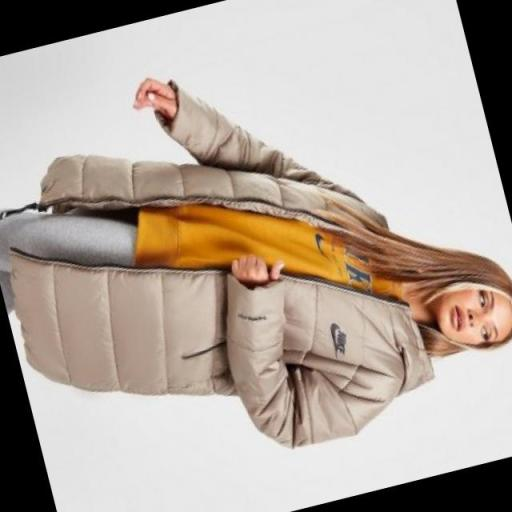Nike: (334, 327, 350, 354), (328, 320, 340, 342)
